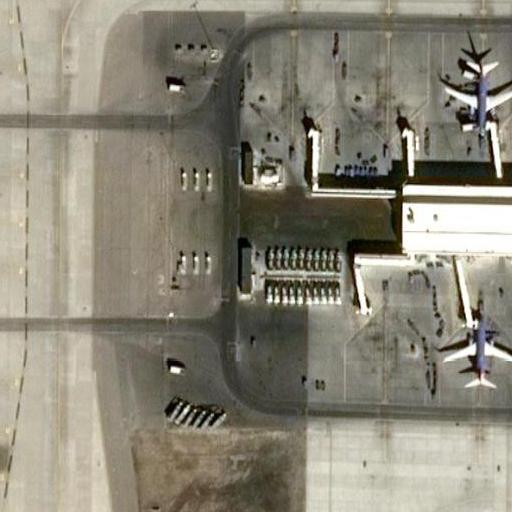Aircraft: (432, 304, 512, 392), (439, 44, 512, 139)
